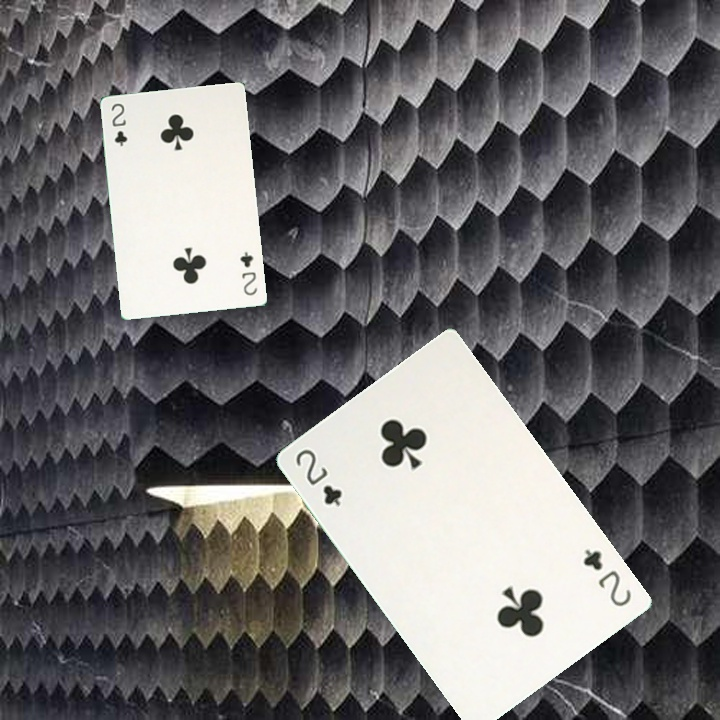2c: (579, 544, 634, 610), (291, 444, 345, 509), (236, 247, 260, 298), (107, 99, 130, 149)
